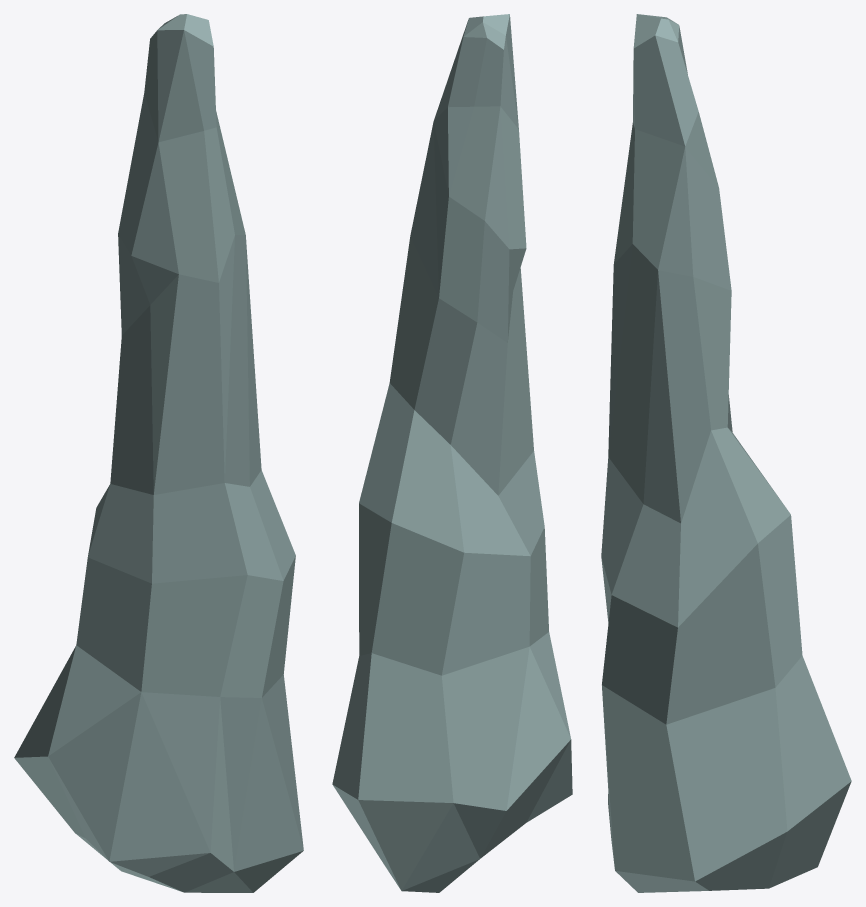
File: salactites_1.fbx
3 views of the same model, side by side, from view 1: azimuth 30°, elevation 25°; view 2: azimuth 150°, elevation 25°; view 3: azimuth 270°, elevation 25° (orthographic). The views are drawn at different scales.
Parts seen in each view (by area): view 1: salactites_1; view 2: salactites_1; view 3: salactites_1.
Boxes of the visible parts, x1,y1,x2,y2 form: salactites_1: (14, 14, 303, 892); salactites_1: (332, 14, 572, 892); salactites_1: (601, 14, 851, 892).
Bounding box in the file's own units: 3331 × 11922 × 3142.
